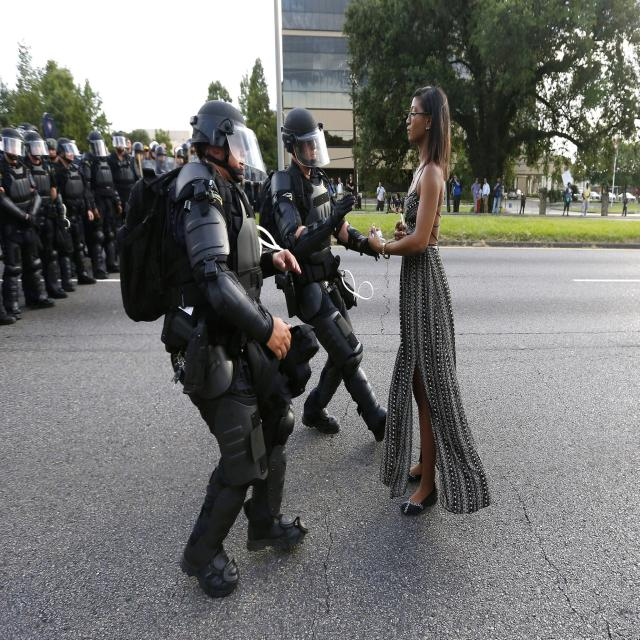police: (114, 77, 300, 619), (264, 75, 384, 483)
